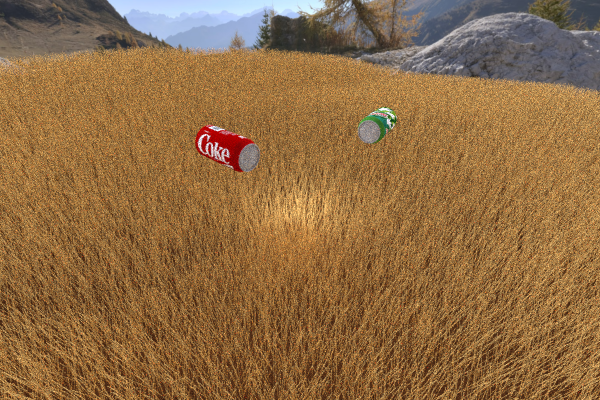Plastic Bottle: (508, 137, 600, 335), (194, 124, 260, 172), (357, 106, 396, 143)
